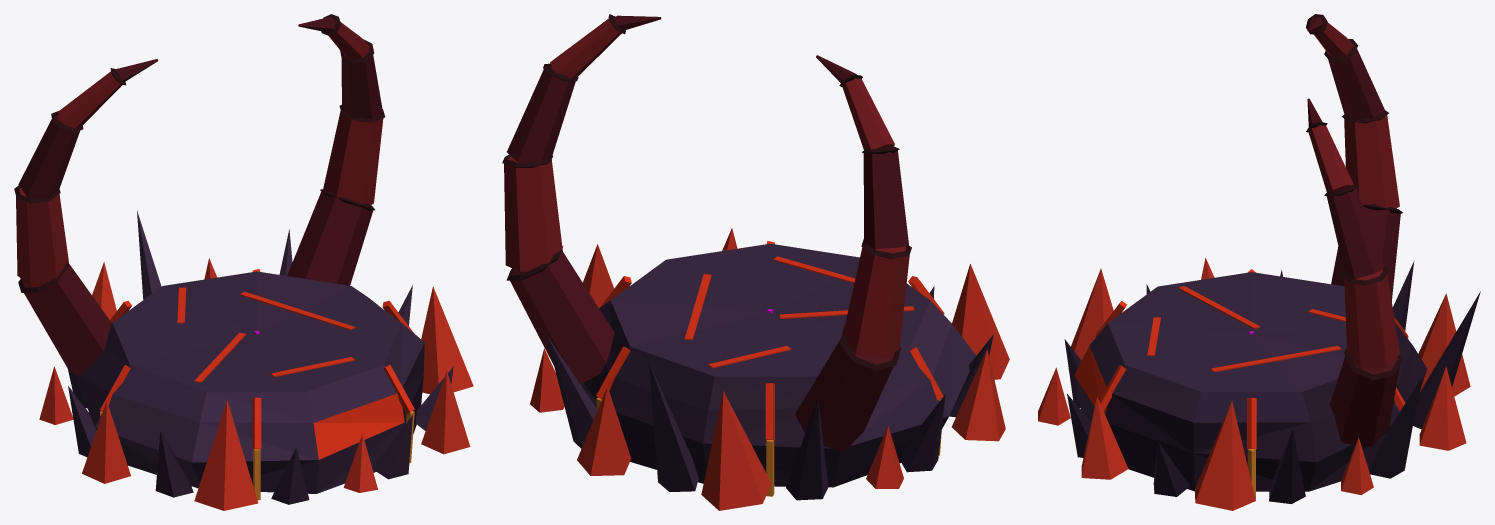
The model's file is Platform_DemonShiba.fbx.
The picture shows the model from 3 angles, left to right: view 1: azimuth 30°, elevation 25°; view 2: azimuth 150°, elevation 25°; view 3: azimuth 270°, elevation 25°; orthographic projection. The views are drawn at different scales.
Parts seen in each view (by area): view 1: Body; view 2: Body; view 3: Body.
Boxes of the visible parts, bbox=[...] form: Body: bbox=[14, 14, 473, 510]; Body: bbox=[502, 14, 1009, 510]; Body: bbox=[1038, 14, 1480, 510].
Bounding box in the file's own units: 11.05 × 9.83 × 10.9.
